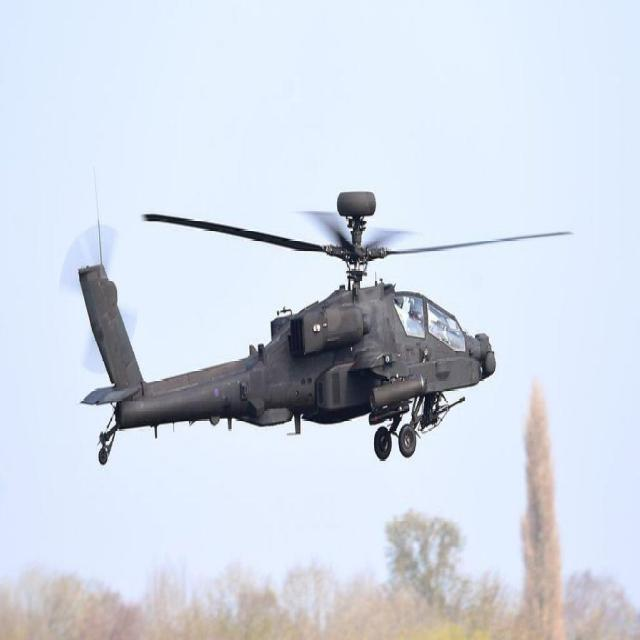MIL_HELO: (71, 190, 574, 460)
